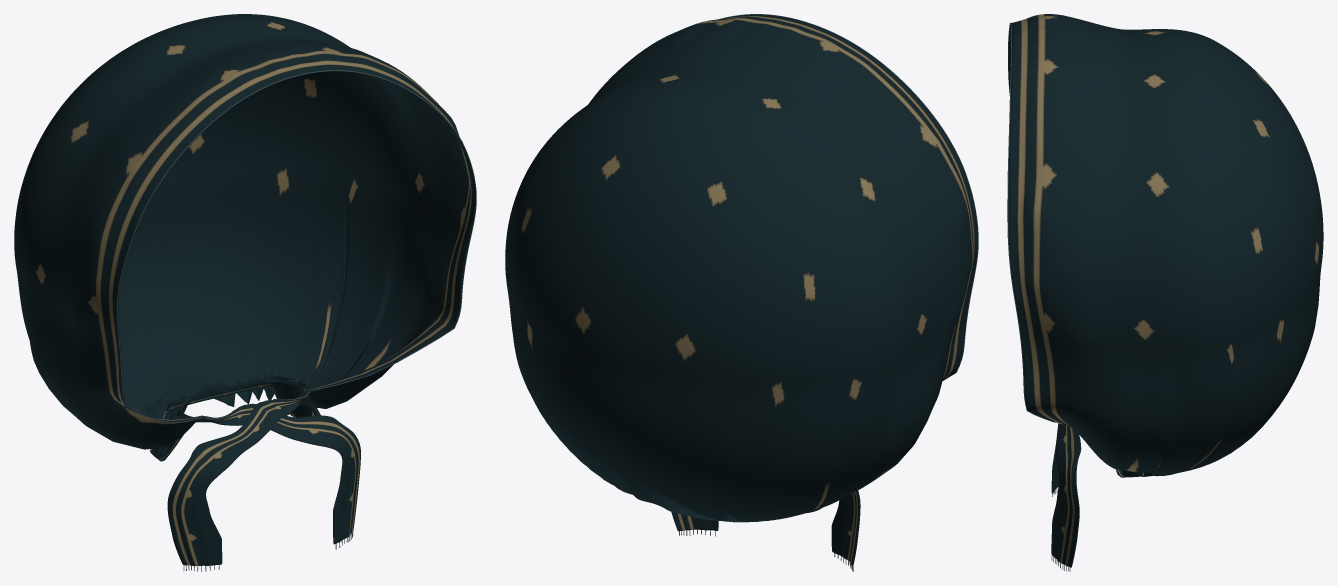
The model's file is Masculine-afro-jersey-pashmina250-headgear.glb.
3 views of the same model, side by side, from view 1: azimuth 30°, elevation 25°; view 2: azimuth 150°, elevation 25°; view 3: azimuth 270°, elevation 25° (orthographic). The views are drawn at different scales.
Visible parts, largest first — view 1: 226 headgear / Headwear / continuous woven pashmina239, 226 headgear / Headwear / face edge239; view 2: 226 headgear / Headwear / continuous woven pashmina239, 226 headgear / Headwear / face edge239; view 3: 226 headgear / Headwear / continuous woven pashmina239, 226 headgear / Headwear / face edge239.
Boxes of the visible parts, box(x1,y1,x2,y2) form: 226 headgear / Headwear / continuous woven pashmina239: box(14, 14, 475, 566); 226 headgear / Headwear / face edge239: box(116, 70, 476, 423); 226 headgear / Headwear / continuous woven pashmina239: box(505, 14, 977, 566); 226 headgear / Headwear / face edge239: box(719, 14, 978, 381); 226 headgear / Headwear / continuous woven pashmina239: box(1008, 14, 1323, 567); 226 headgear / Headwear / face edge239: box(1007, 22, 1055, 422).
Size of the model in its own units: 1.14 by 1.45 by 0.833.
3 materials, 1 textured.
